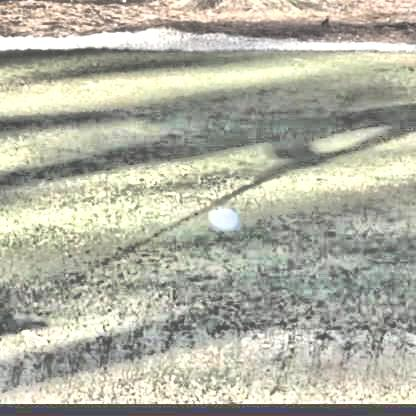golfball: (206, 204, 235, 232)
